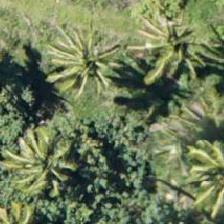coconut_tree: (38, 18, 128, 108), (10, 119, 100, 209), (44, 18, 134, 108)
